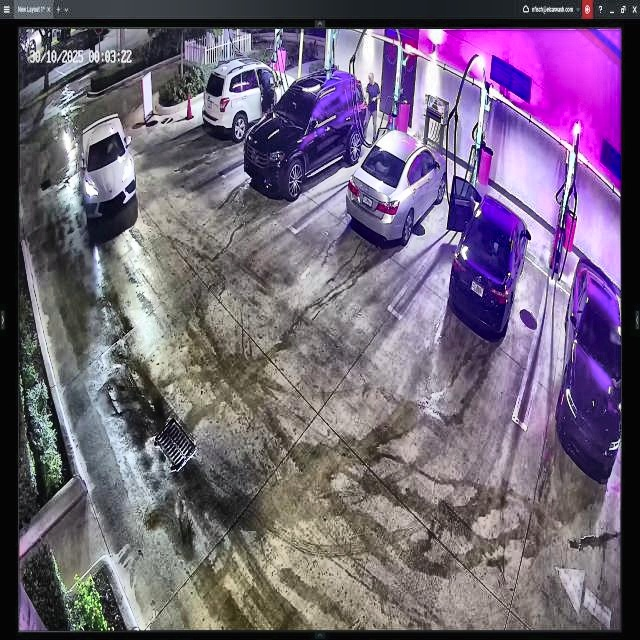Car: (246, 72, 368, 199), (449, 173, 531, 332), (348, 131, 448, 242), (82, 114, 137, 220)
